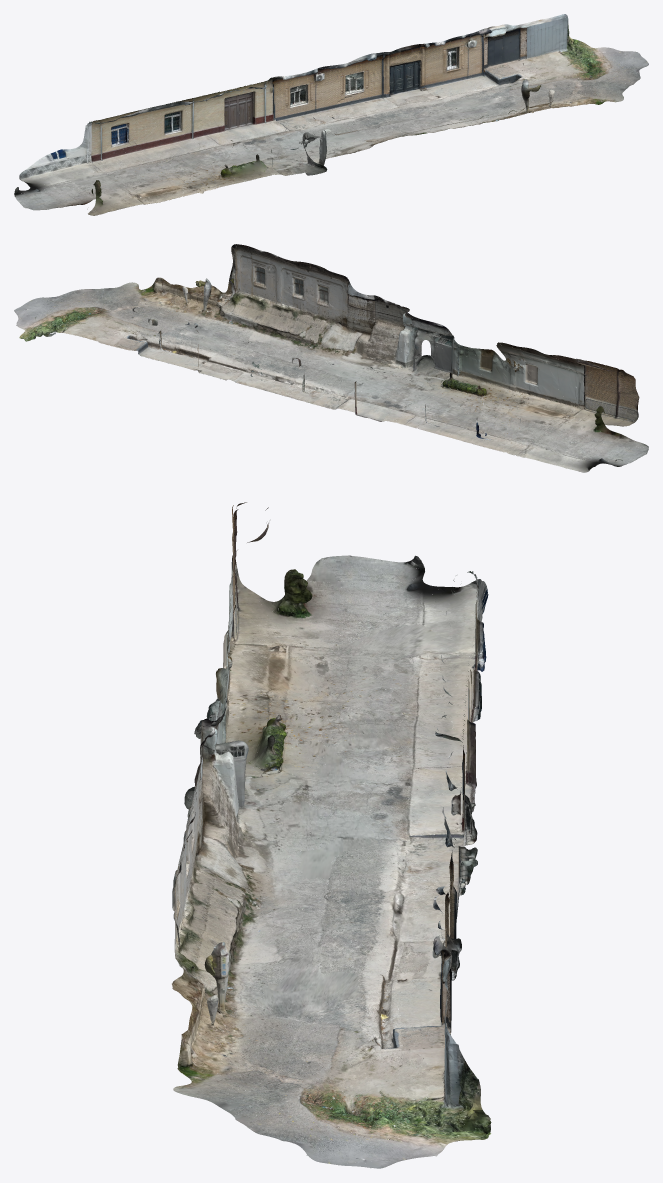
Rendered from angren-4.glb.
The picture shows the model from 3 angles, top to bottom: view 1: azimuth 30°, elevation 25°; view 2: azimuth 150°, elevation 25°; view 3: azimuth 270°, elevation 25°; orthographic projection. The views are drawn at different scales.
Size of the model in its own units: 51.21 by 6.23 by 11.39.
3 materials, 3 textured.
